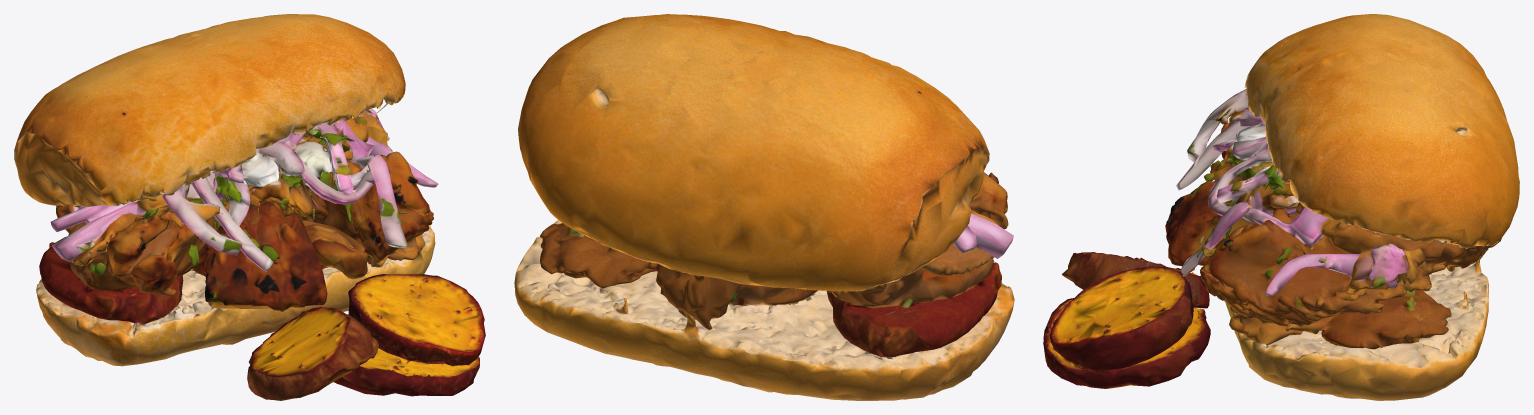
The model's file is cajachina.glb.
3 views of the same model, side by side, from view 1: azimuth 30°, elevation 25°; view 2: azimuth 150°, elevation 25°; view 3: azimuth 270°, elevation 25° (orthographic). The views are drawn at different scales.
Size of the model in its own units: 0.1801 by 0.1205 by 0.1901.
1 material, 1 textured.
